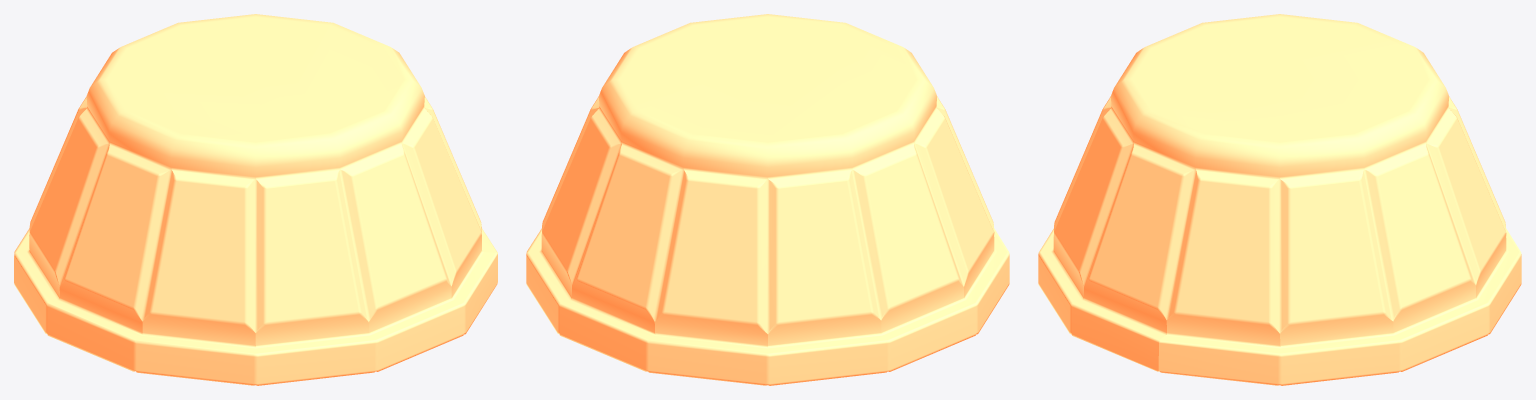
Rendered from SM_MastBase.fbx.
3 views of the same model, side by side, from view 1: azimuth 30°, elevation 25°; view 2: azimuth 150°, elevation 25°; view 3: azimuth 270°, elevation 25° (orthographic).
Visible parts, largest first — view 1: SM_MastBase_LOD0; view 2: SM_MastBase_LOD0; view 3: SM_MastBase_LOD0.
Boxes of the visible parts, x1,y1,x2,y2 form: SM_MastBase_LOD0: (14, 14, 497, 385); SM_MastBase_LOD0: (526, 14, 1009, 385); SM_MastBase_LOD0: (1038, 14, 1521, 385).
Size of the model in its own units: 96.55 by 96.55 by 45.26.
